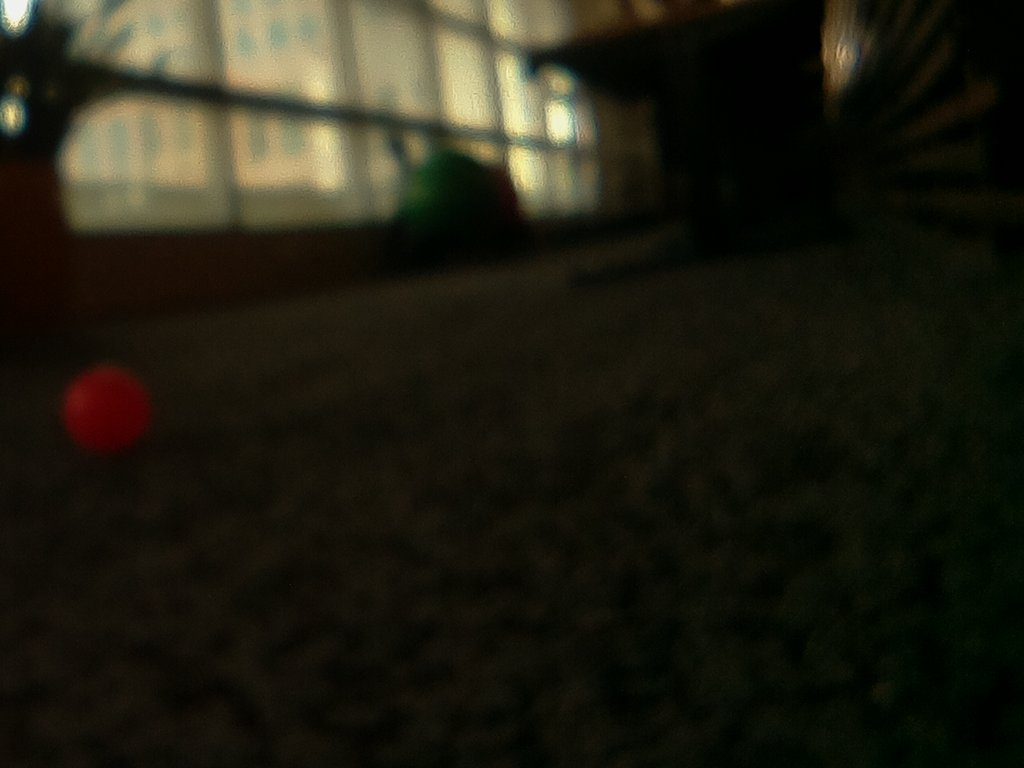ball: (66, 367, 151, 452)
